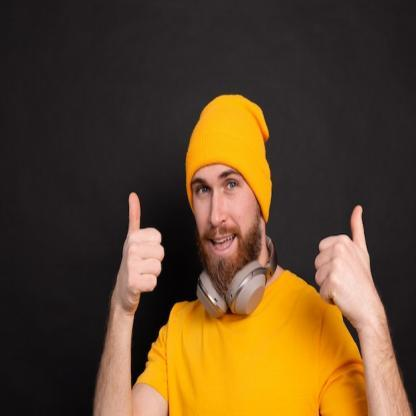thumb_up: (312, 200, 372, 316), (116, 187, 166, 306)
